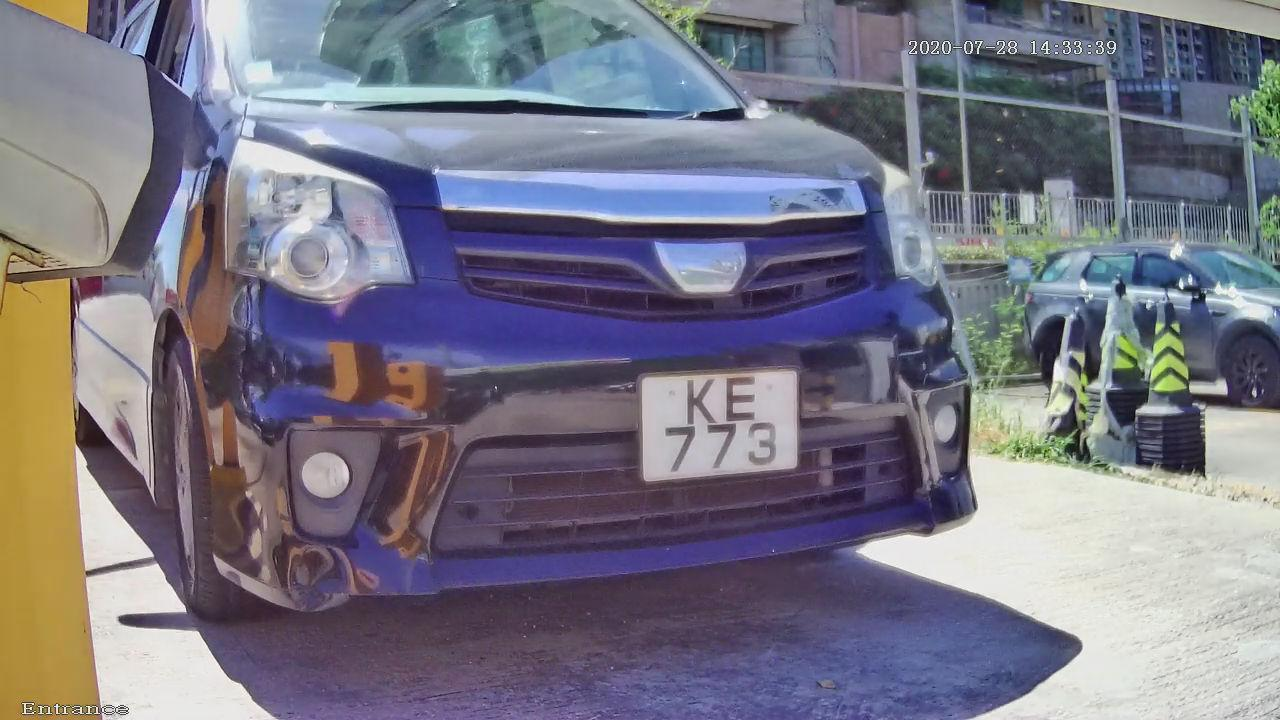privatecar: (35, 10, 1126, 708)
